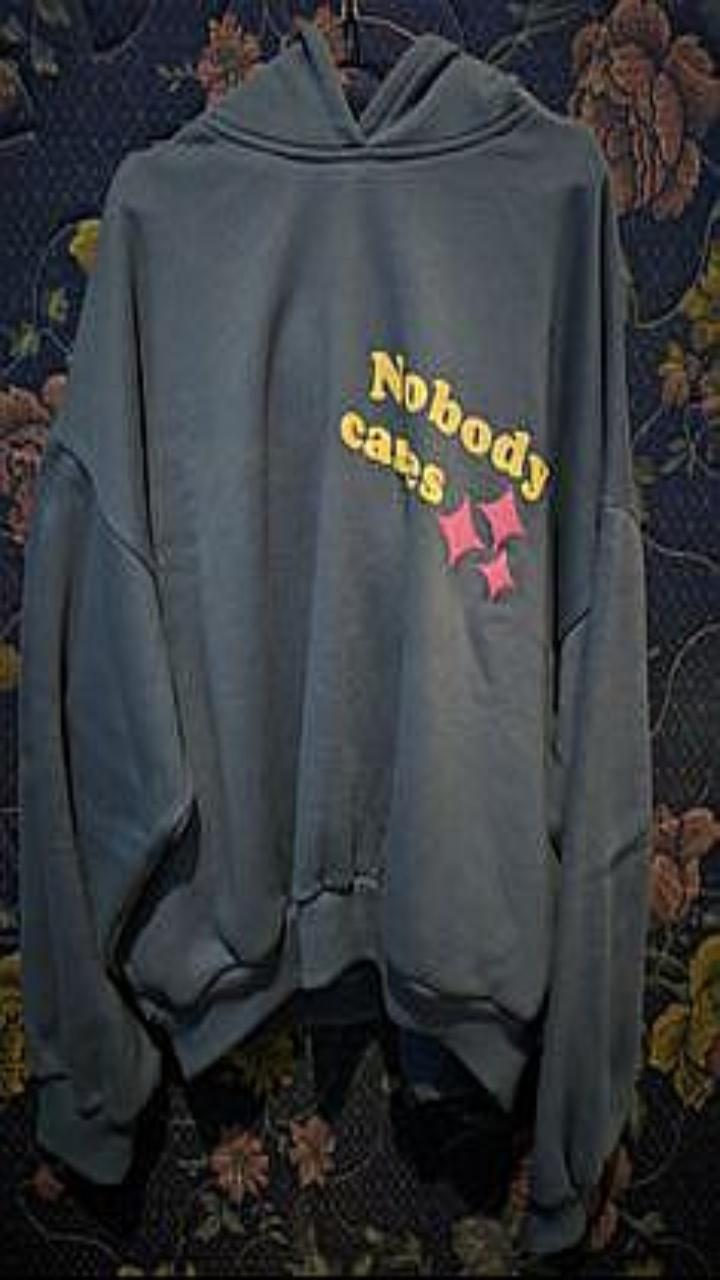Hoodie: (19, 20, 650, 1251)
